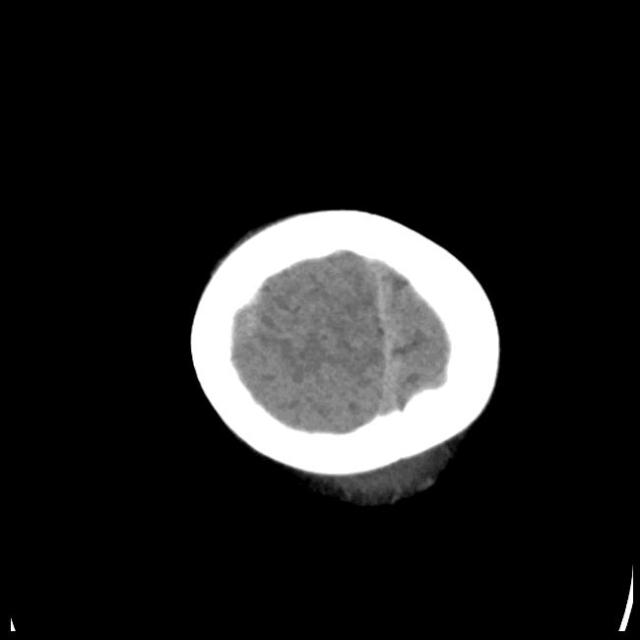lesion: (185, 202, 505, 509)
